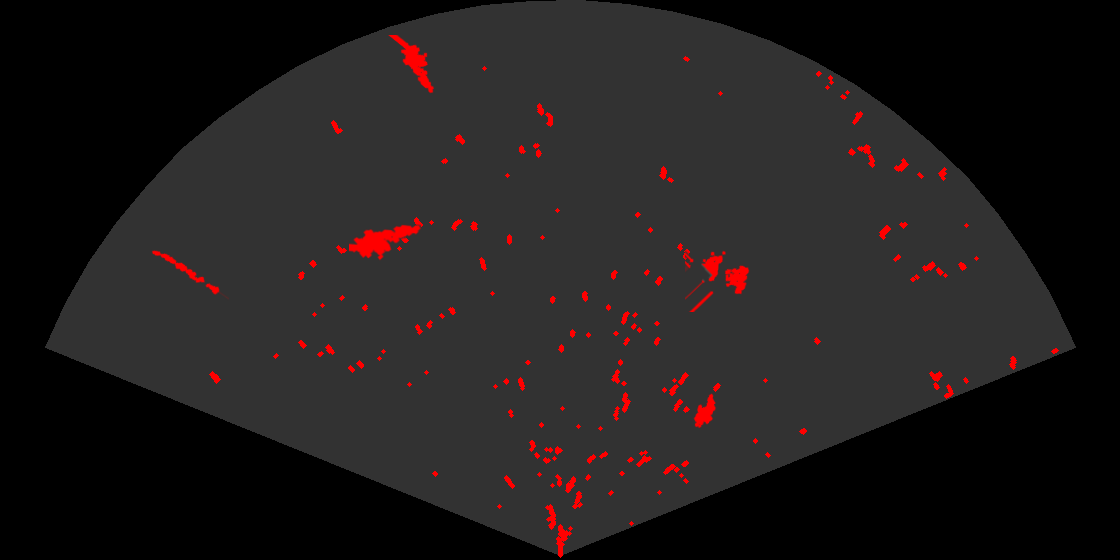AUV: (692, 392, 718, 430)
cage: (685, 249, 751, 312)
chain: (150, 249, 229, 301)
frogman: (388, 35, 436, 95), (349, 223, 421, 262)
